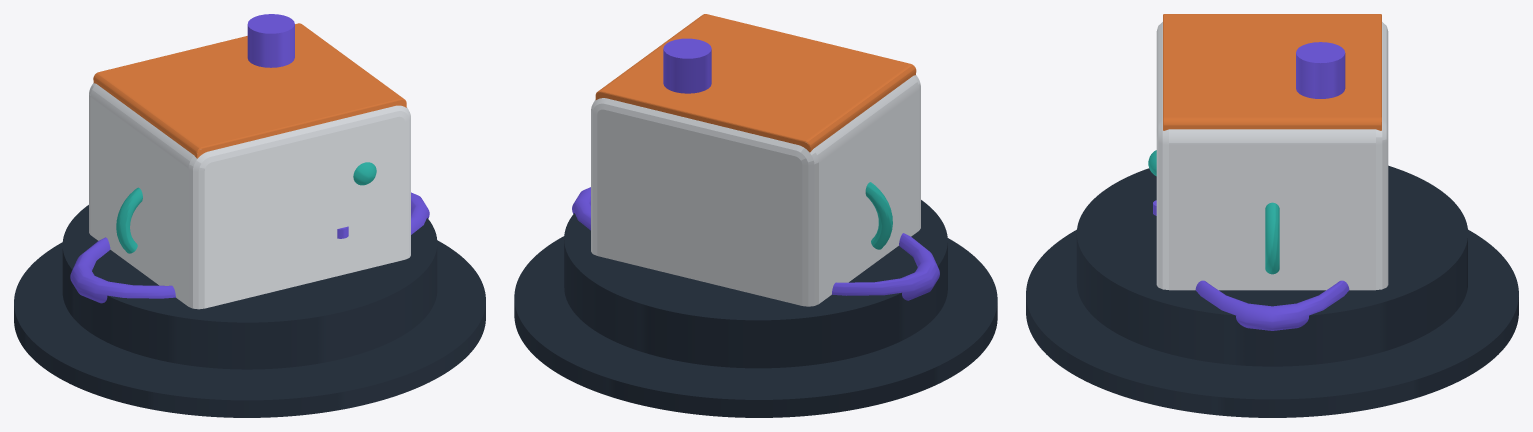
Rendered from 0466_机械图鉴_发动机.glb.
3 views of the same model, side by side, from view 1: azimuth 30°, elevation 25°; view 2: azimuth 150°, elevation 25°; view 3: azimuth 270°, elevation 25° (orthographic). The views are drawn at different scales.
Visible parts, largest first — view 1: card_0466; view 2: card_0466; view 3: card_0466.
Part boxes in pixels (x1=…): card_0466: x1=14, y1=14, x2=485, y2=417; card_0466: x1=514, y1=14, x2=997, y2=417; card_0466: x1=1026, y1=14, x2=1518, y2=417.
Size of the model in its own units: 1.53 by 1 by 1.51.
